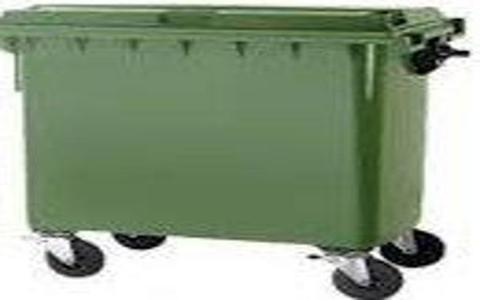Proper garbage: (1, 1, 473, 300)
